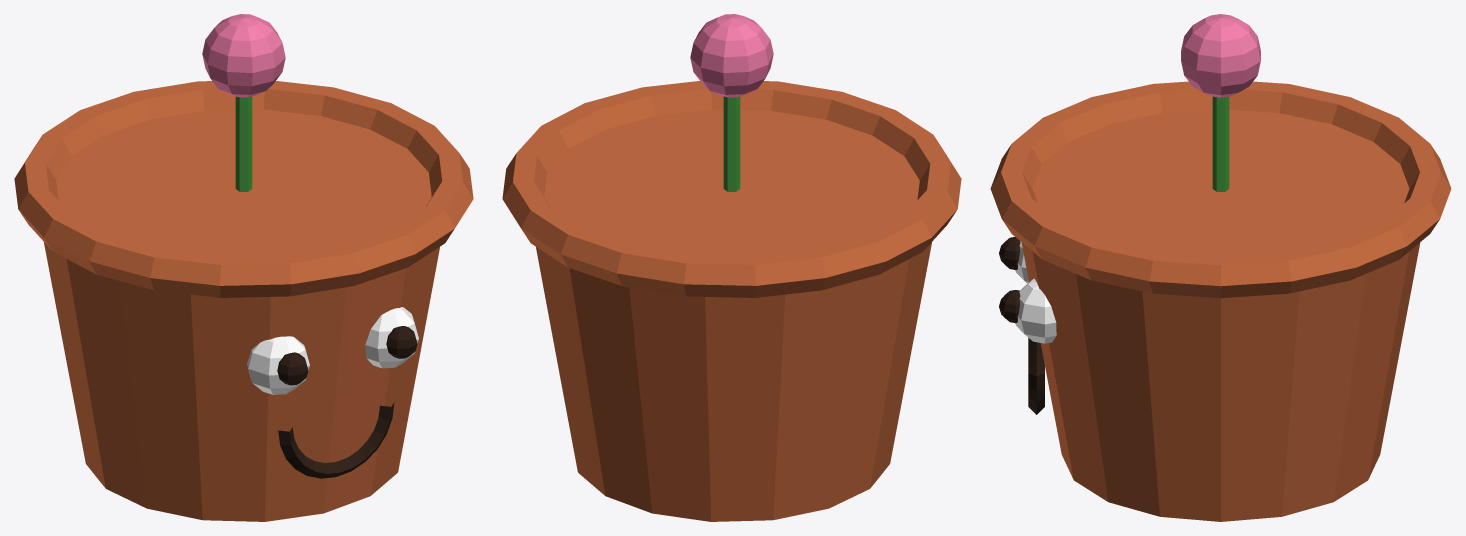
File: smiling_pot.glb
The picture shows the model from 3 angles, left to right: view 1: azimuth 30°, elevation 25°; view 2: azimuth 150°, elevation 25°; view 3: azimuth 270°, elevation 25°; orthographic projection.
Parts seen in each view (by area): view 1: pot_pot_terracotta, rim_pot_terracotta, flower_flower_pink, eye_smile_white, smile_smile_dark, stalk_plant_leaf, pupil_smile_dark; view 2: pot_pot_terracotta, rim_pot_terracotta, flower_flower_pink, stalk_plant_leaf; view 3: pot_pot_terracotta, rim_pot_terracotta, flower_flower_pink, eye_smile_white, stalk_plant_leaf, smile_smile_dark, pupil_smile_dark.
Boxes of the visible parts, x1=… form: pot_pot_terracotta: x1=44, y1=109, x2=439, y2=521; rim_pot_terracotta: x1=14, y1=81, x2=473, y2=297; flower_flower_pink: x1=202, y1=14, x2=285, y2=97; eye_smile_white: x1=247, y1=307, x2=418, y2=394; smile_smile_dark: x1=278, y1=403, x2=394, y2=478; stalk_plant_leaf: x1=235, y1=96, x2=252, y2=191; pupil_smile_dark: x1=277, y1=326, x2=417, y2=385; pot_pot_terracotta: x1=536, y1=109, x2=931, y2=521; rim_pot_terracotta: x1=502, y1=81, x2=961, y2=297; flower_flower_pink: x1=690, y1=14, x2=773, y2=97; stalk_plant_leaf: x1=723, y1=96, x2=740, y2=191; pot_pot_terracotta: x1=1021, y1=109, x2=1420, y2=521; rim_pot_terracotta: x1=990, y1=81, x2=1451, y2=298; flower_flower_pink: x1=1181, y1=14, x2=1260, y2=97; eye_smile_white: x1=1015, y1=241, x2=1056, y2=343; stalk_plant_leaf: x1=1212, y1=96, x2=1229, y2=191; smile_smile_dark: x1=1028, y1=338, x2=1044, y2=414; pupil_smile_dark: x1=999, y1=237, x2=1020, y2=323.
Size of the model in its own units: 1.1 by 1.15 by 1.1.
